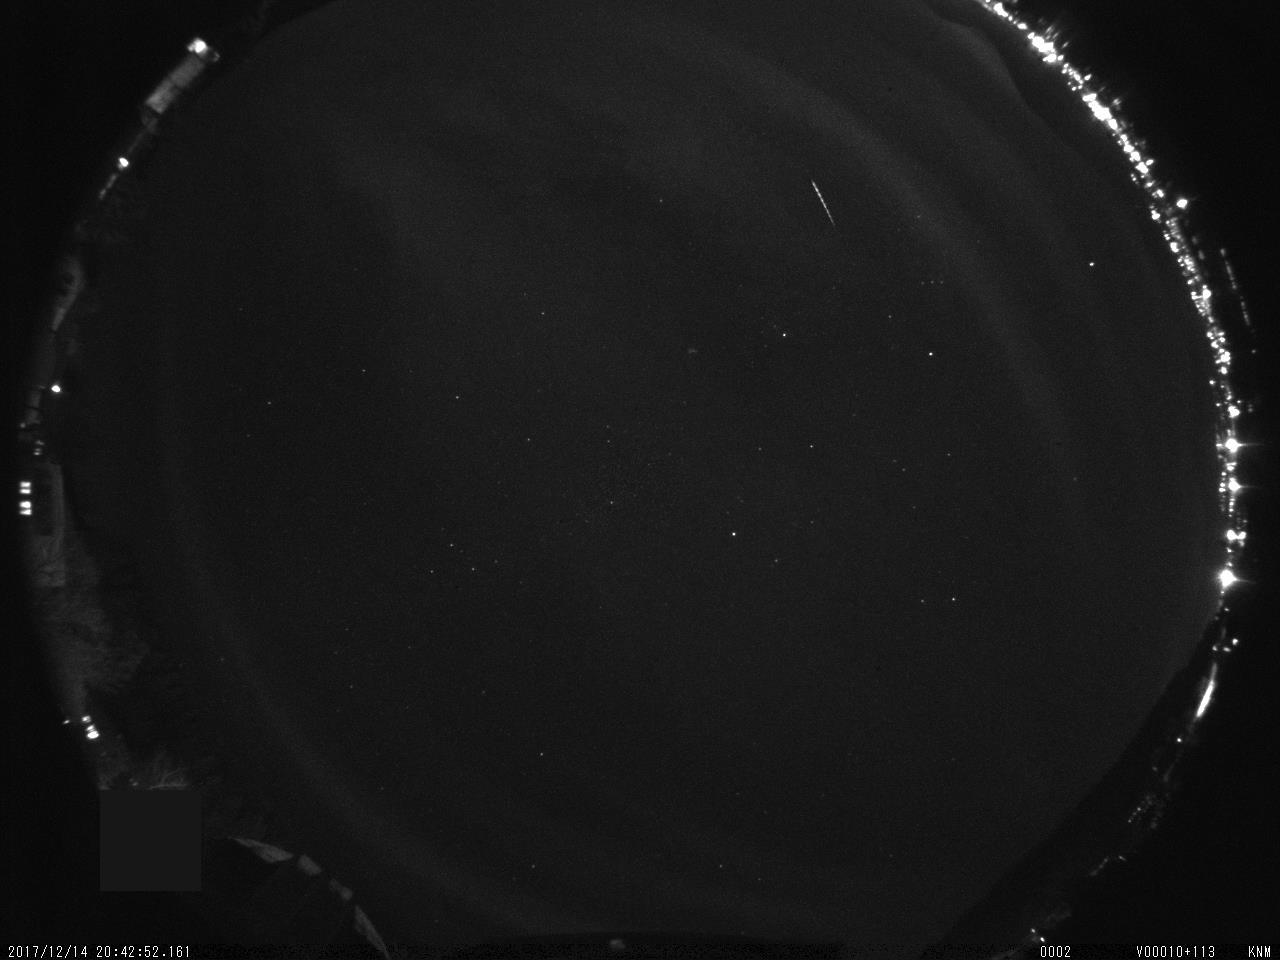meteor: (800, 170, 856, 237)
